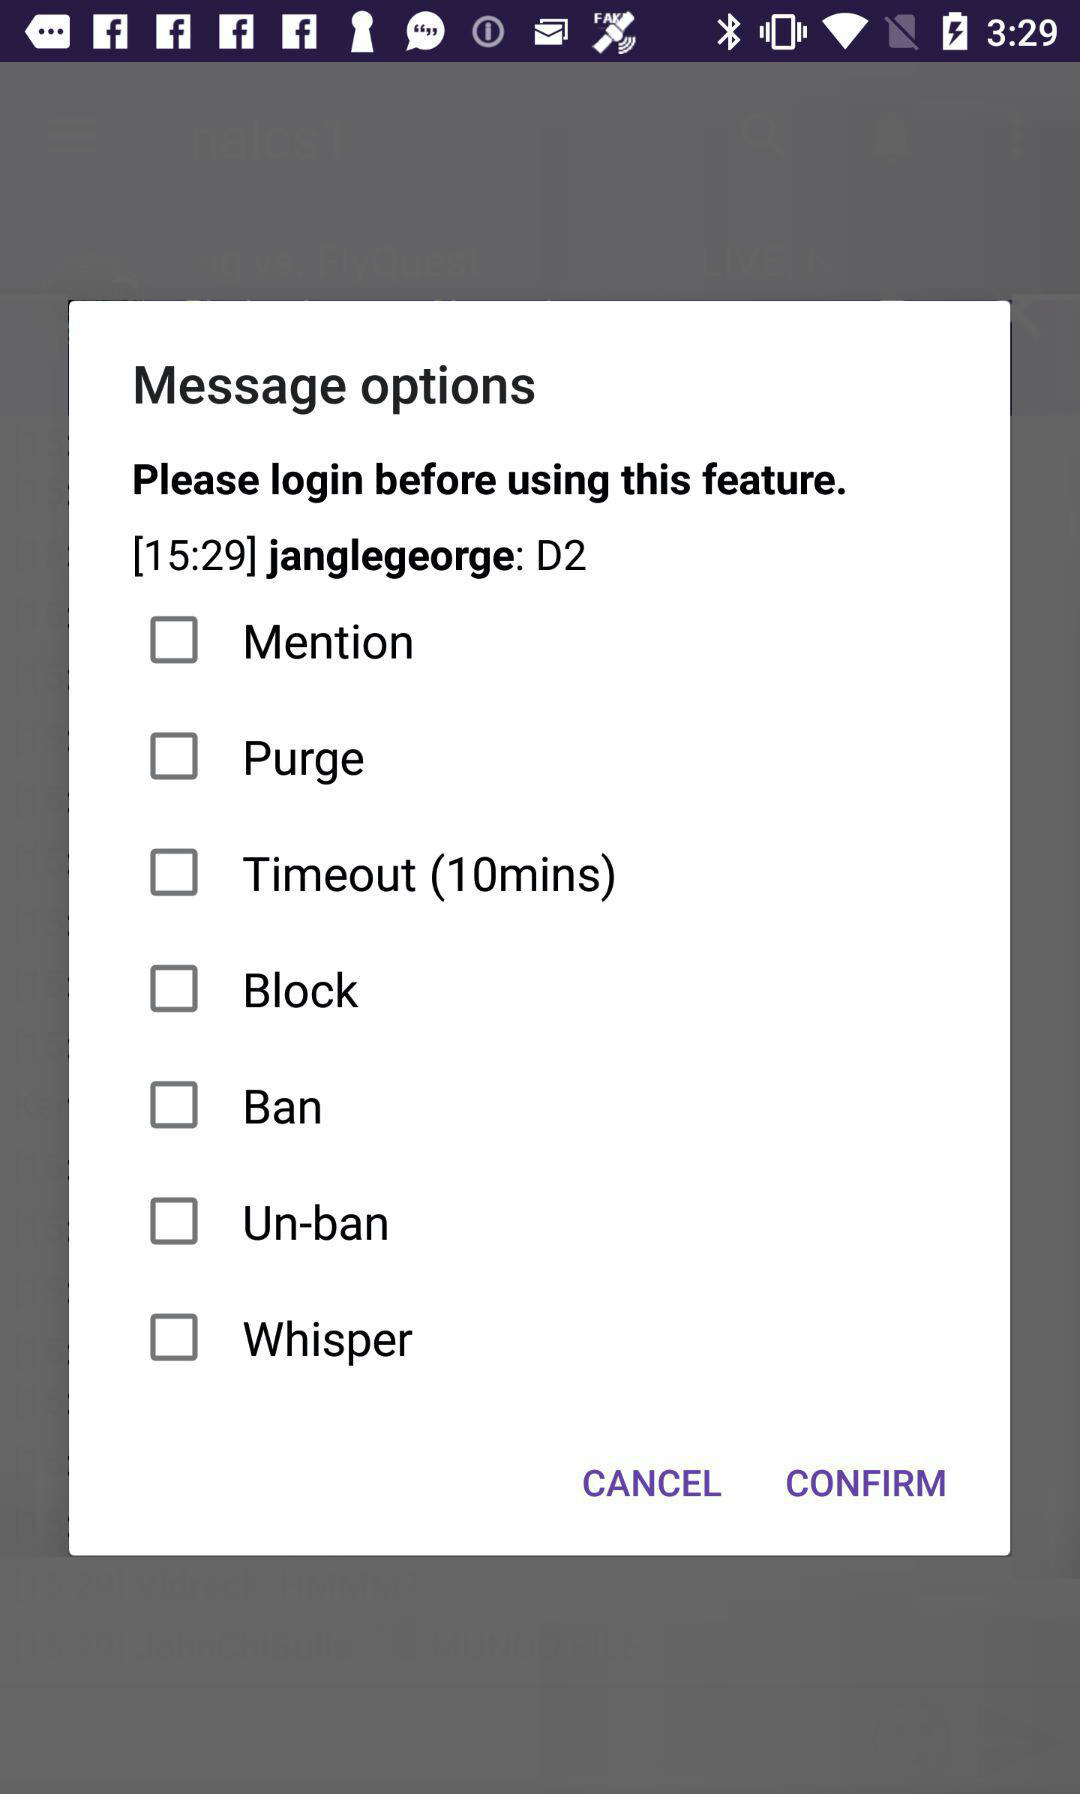CheckedTextView: (150, 847, 616, 903), (150, 1312, 415, 1367), (150, 616, 414, 665), (150, 1196, 389, 1247), (150, 730, 365, 786), (150, 964, 360, 1014), (150, 1080, 322, 1130)
Modal: (69, 301, 1012, 1557)
Text: (135, 461, 847, 506), (136, 364, 536, 416), (135, 534, 589, 580), (243, 852, 616, 903), (243, 1319, 415, 1367), (246, 624, 414, 661), (245, 1203, 389, 1242), (245, 739, 365, 786), (787, 1469, 947, 1499), (246, 971, 360, 1010), (583, 1469, 723, 1498), (246, 1089, 322, 1126)
UpperTaskBar: (1, 1, 1080, 64)
